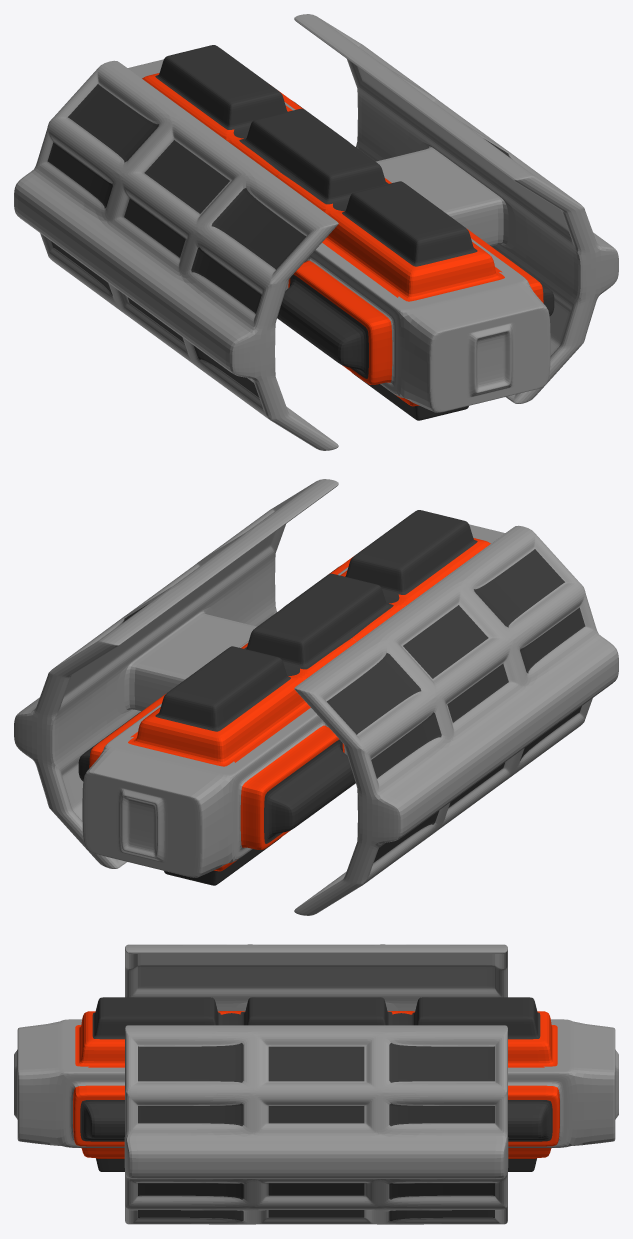
File: Modular_CargoHold_01.FBX
The picture shows the model from 3 angles, top to bottom: view 1: azimuth 30°, elevation 25°; view 2: azimuth 150°, elevation 25°; view 3: azimuth 270°, elevation 25°; orthographic projection. The views are drawn at different scales.
Visible parts, largest first — view 1: Box002; view 2: Box002; view 3: Box002.
Boxes of the visible parts, x1,y1,x2,y2 form: Box002: (14,14,618,450); Box002: (14,479,618,915); Box002: (14,944,618,1224).
Bounding box in the file's own units: 90 × 49.92 × 141.
